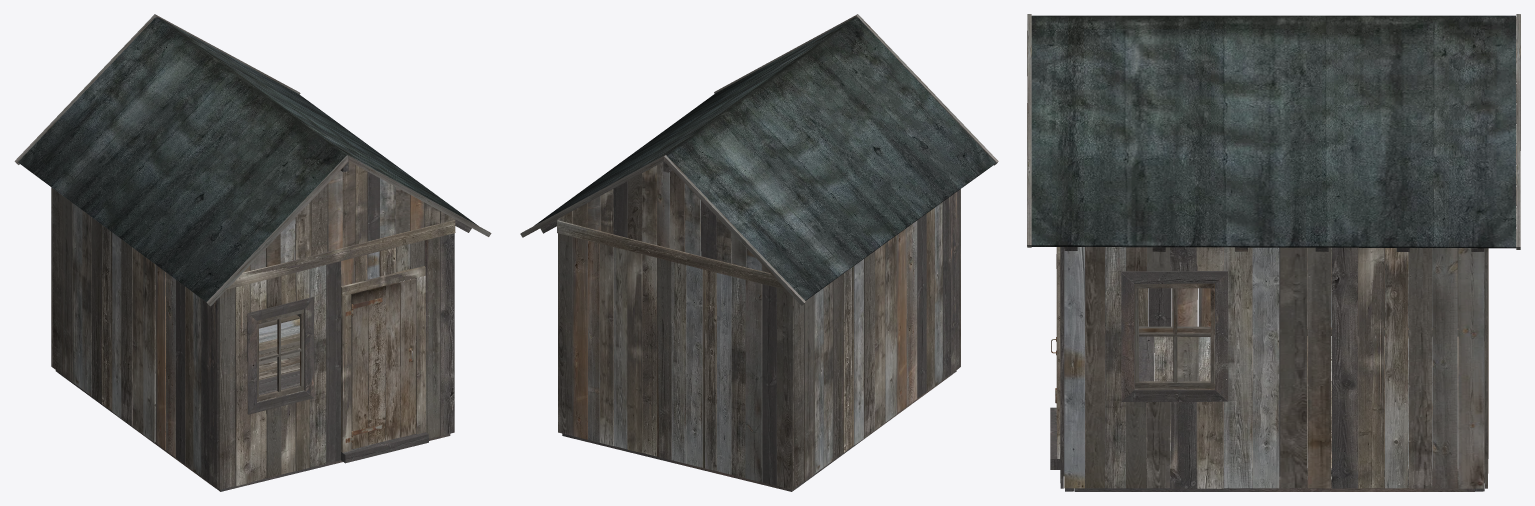
Rendered from casa.glb.
3 views of the same model, side by side, from view 1: azimuth 30°, elevation 25°; view 2: azimuth 150°, elevation 25°; view 3: azimuth 270°, elevation 25° (orthographic). The views are drawn at different scales.
Parts seen in each view (by area): view 1: Base_PBR_0; view 2: Base_PBR_0; view 3: Base_PBR_0.
Boxes of the visible parts, bbox=[...] form: Base_PBR_0: bbox=[14, 14, 491, 491]; Base_PBR_0: bbox=[520, 14, 998, 491]; Base_PBR_0: bbox=[1027, 14, 1520, 491].
Size of the model in its own units: 299 by 320 by 353.
Materials: 1 (1 with a texture image).
